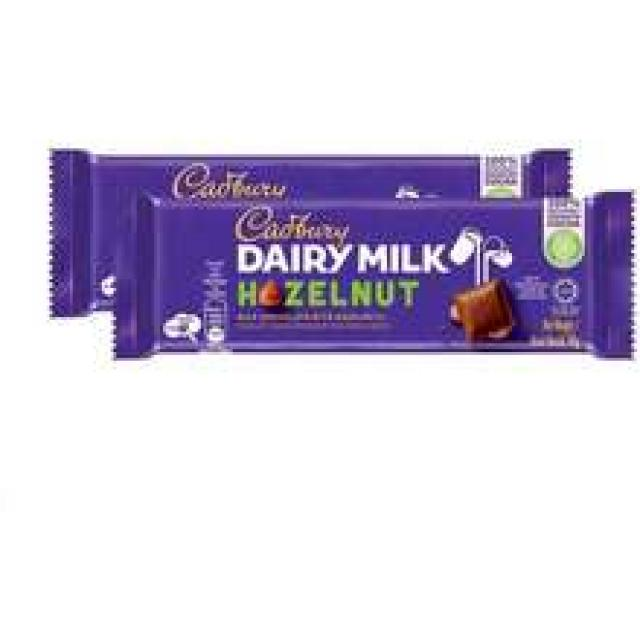cadbury: (119, 192, 634, 364)
